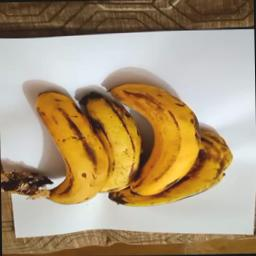Banana Unripe: (110, 80, 205, 196), (16, 92, 110, 206), (80, 92, 139, 201)
